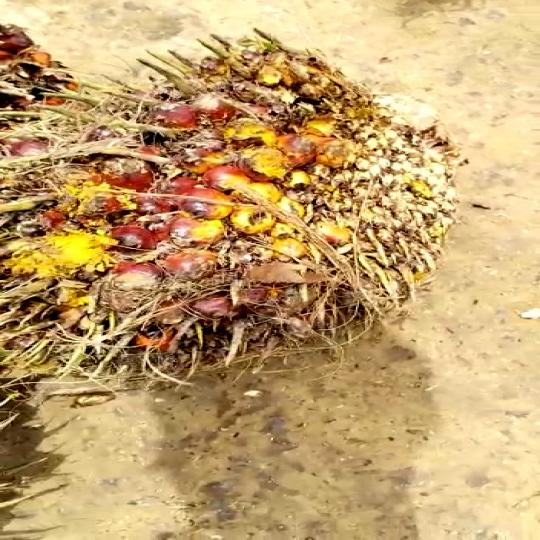masak: (0, 36, 473, 378)
